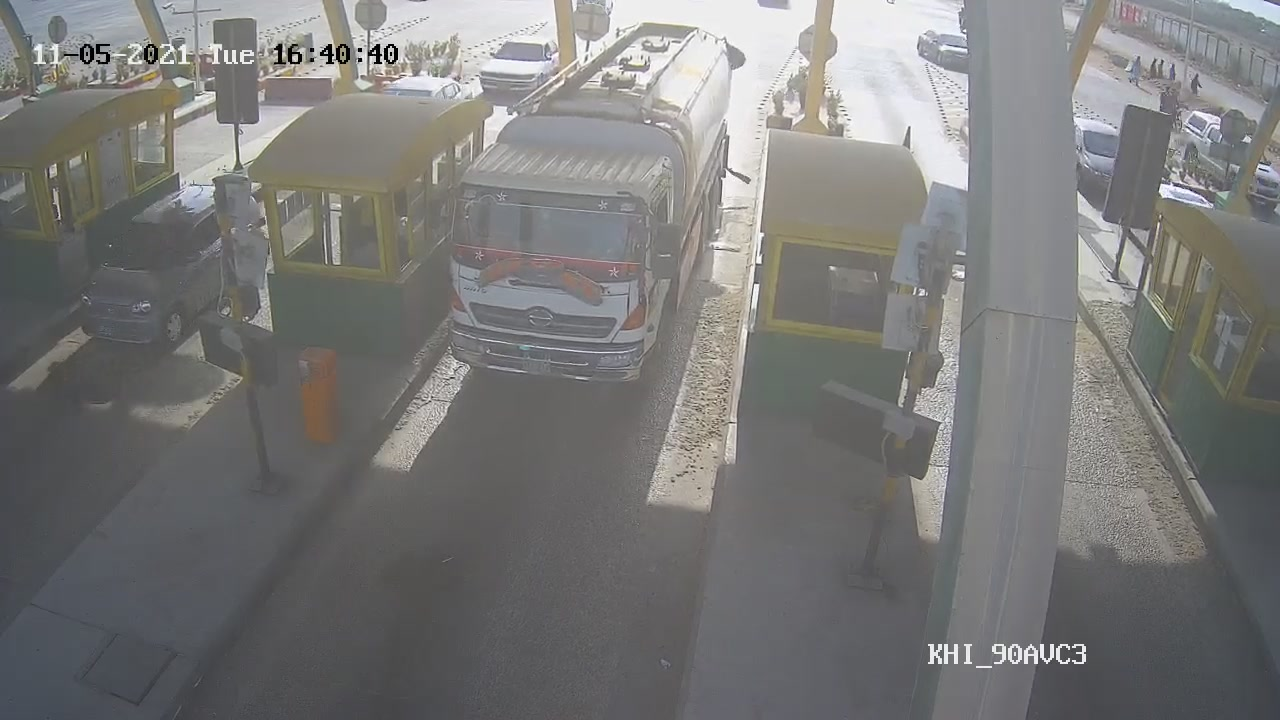F6: (440, 23, 738, 392)
